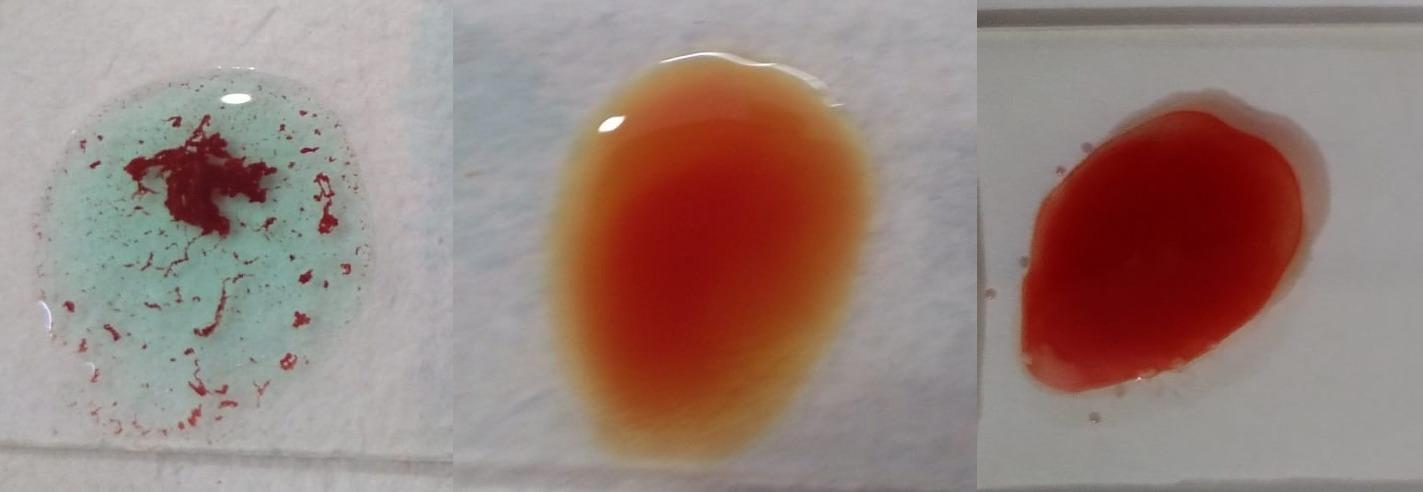A: (40, 75, 379, 428)
